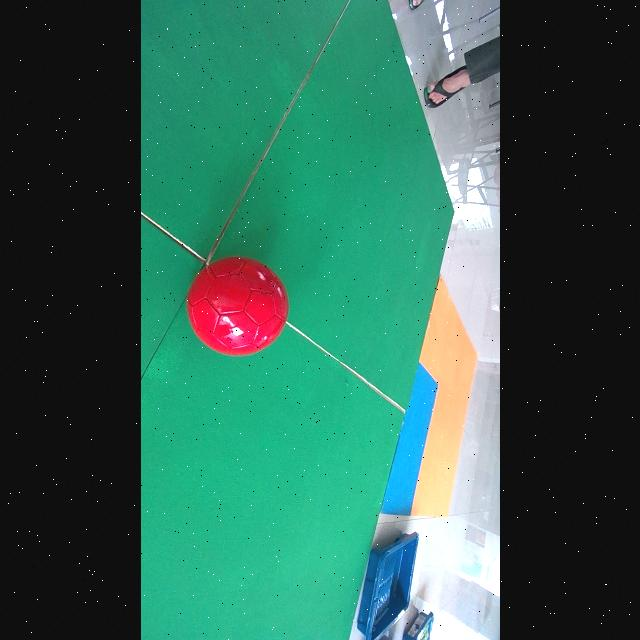R: (186, 257, 289, 356)
